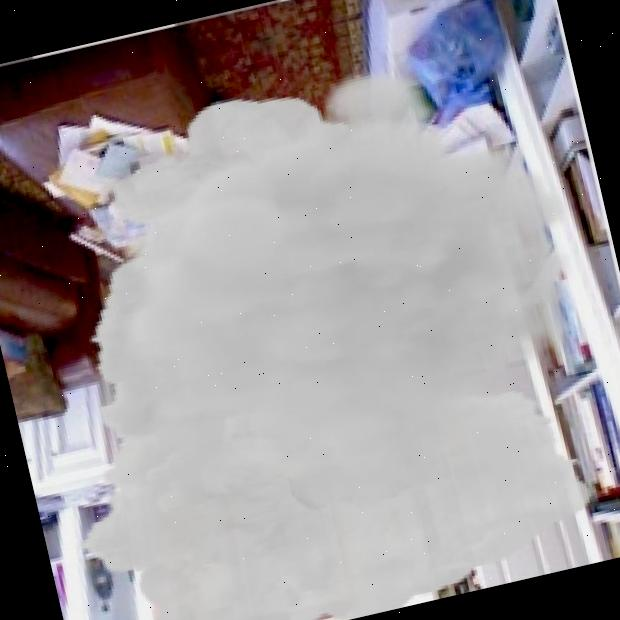smoke: (0, 28, 620, 620)
